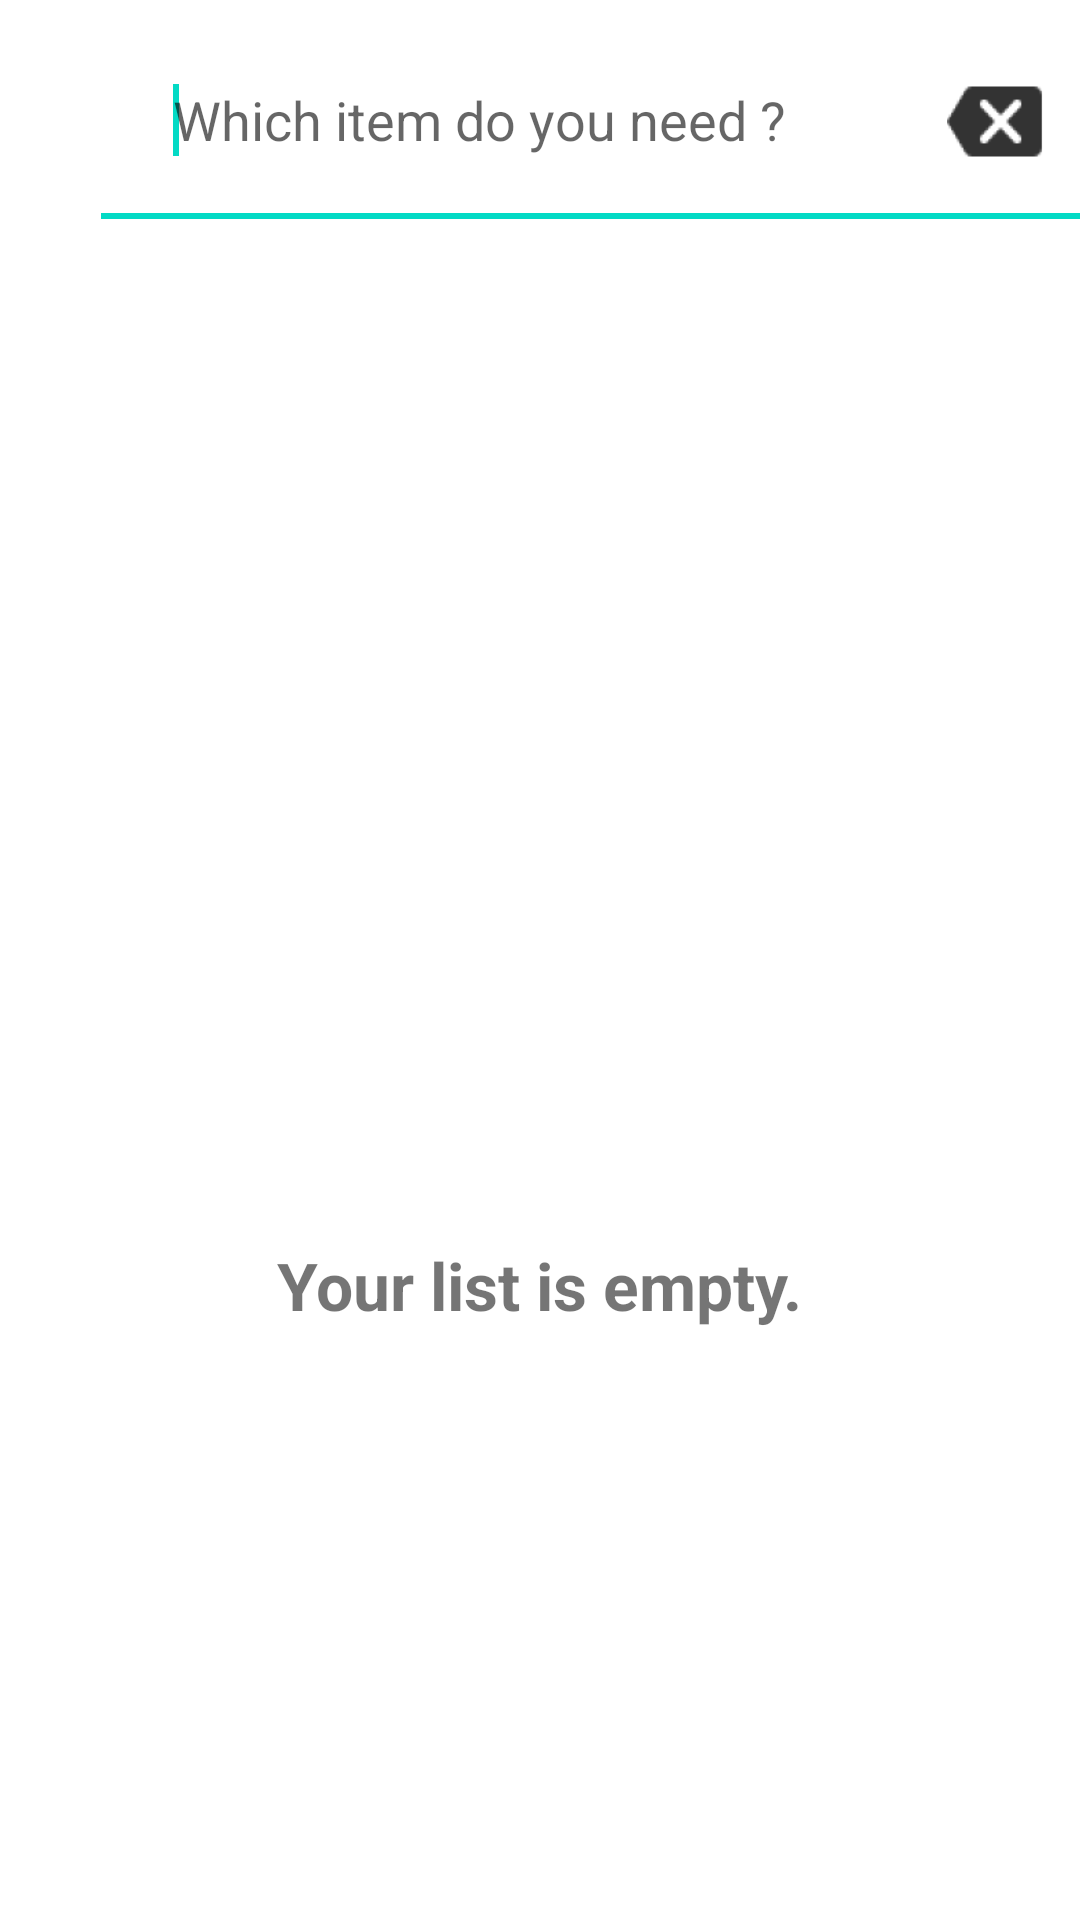

Locate icon controls on the screen. Image size 1080x1920, boxes as (x1, y1, x2, y2).
clear text: (947, 86, 1042, 157)
